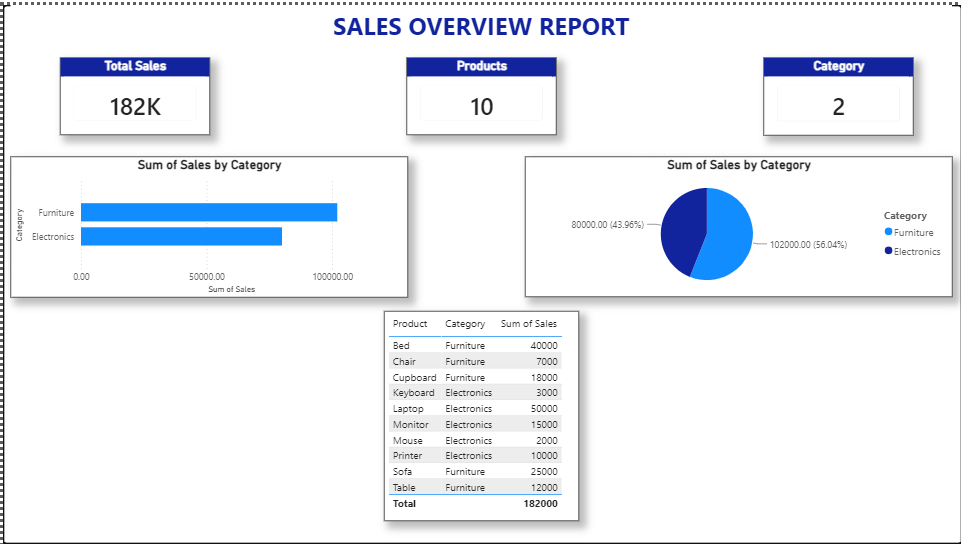

What the dashboard file says about the page in this screenshot:
{"tool":"powerbi","page":{"name":"Page 1","canvas":[1280,720],"ordinal":0},"visuals":[{"type":"textbox","box":[10,0,1255,70],"z":0},{"type":"cardVisual","title":"Total Sales","fields":{"Data":["Sum(Sales.Sales)"]},"box":[75,70,200,103.3],"z":1},{"type":"clusteredBarChart","fields":{"Category":["Sales.Category"],"Y":["Sum(Sales.Sales)"]},"box":[10,202,530,188],"z":2},{"type":"pieChart","fields":{"Category":["Sales.Category"],"Y":["Sum(Sales.Sales)"]},"box":[695,202.5,570,187.5],"z":3},{"type":"tableEx","fields":{"Values":["Sales.Product","Sales.Category","Sum(Sales.Sales)"]},"box":[507.5,407.5,260,280],"z":4},{"type":"cardVisual","title":"Products","fields":{"Data":["Count(Sales.Product)"]},"box":[538.3,70,200,103.3],"z":5},{"type":"cardVisual","title":"Category","fields":{"Data":["Count(Sales.Category)"]},"box":[1014,70,200,104],"z":6}]}

Visuals, with their boxes in screenshot pixels (x1, y1, x2, y2), scaled from the page's 1280x720 canvas onto the 961x544 screenshot:
textbox: pyautogui.locateOnScreen(8, 0, 950, 53)
"Total Sales" cardVisual: pyautogui.locateOnScreen(56, 53, 206, 131)
clusteredBarChart - Sales.Category x Sum(Sales.Sales): pyautogui.locateOnScreen(8, 153, 405, 295)
pieChart - Sales.Category x Sum(Sales.Sales): pyautogui.locateOnScreen(522, 153, 950, 295)
tableEx - Sales.Product x Sales.Category: pyautogui.locateOnScreen(381, 308, 576, 519)
"Products" cardVisual: pyautogui.locateOnScreen(404, 53, 554, 131)
"Category" cardVisual: pyautogui.locateOnScreen(761, 53, 911, 131)
